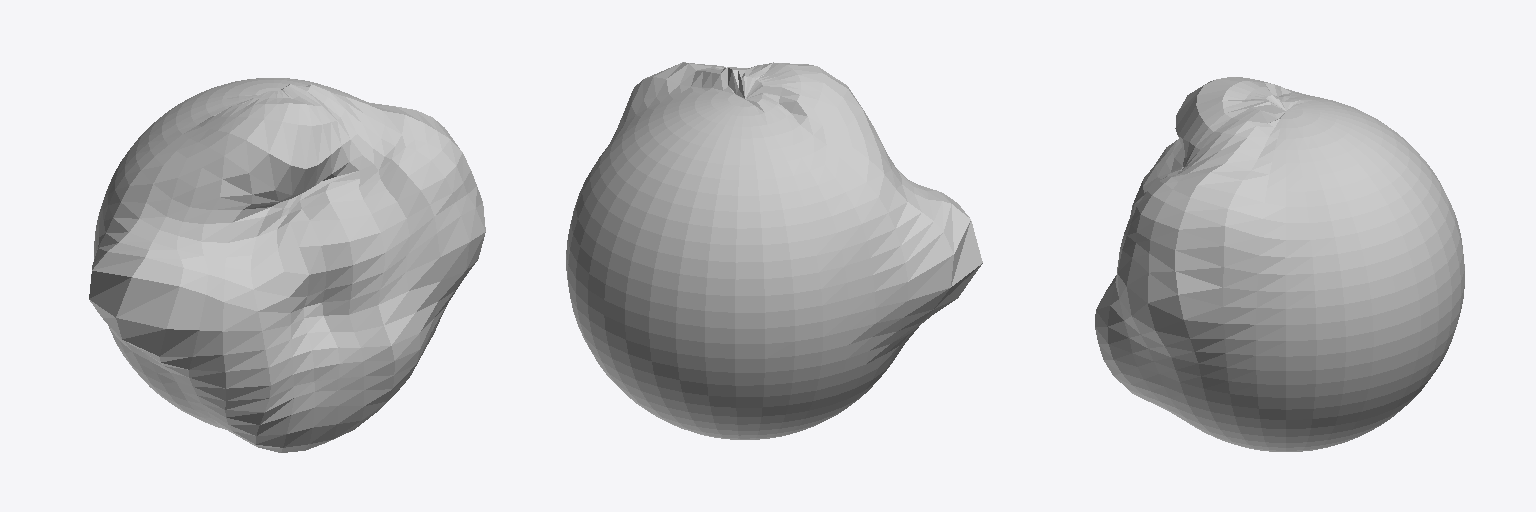
File: RandomShape.obj
3 renders of one model, left to right at view 1: azimuth 30°, elevation 25°; view 2: azimuth 150°, elevation 25°; view 3: azimuth 270°, elevation 25°, orthographic.
Visible parts, largest first — view 1: pSphere1; view 2: pSphere1; view 3: pSphere1.
Part boxes in pixels (x1,y1,x2,y2): pSphere1: (89, 78, 485, 452); pSphere1: (566, 62, 982, 439); pSphere1: (1095, 77, 1464, 451).
Size of the model in its own units: 2.29 by 2.1 by 2.07.